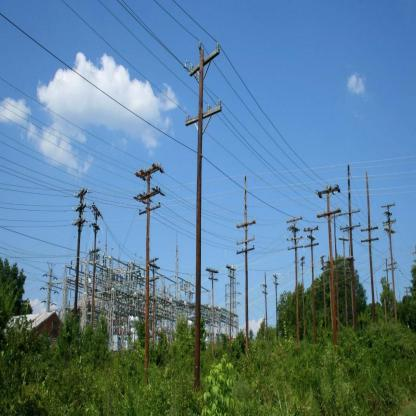Electrical Pole: (180, 30, 224, 391), (132, 163, 166, 379), (313, 182, 348, 347), (234, 173, 261, 355), (65, 184, 93, 340), (357, 169, 382, 323), (379, 200, 406, 330), (284, 212, 308, 354), (302, 225, 326, 349), (204, 265, 222, 366)
